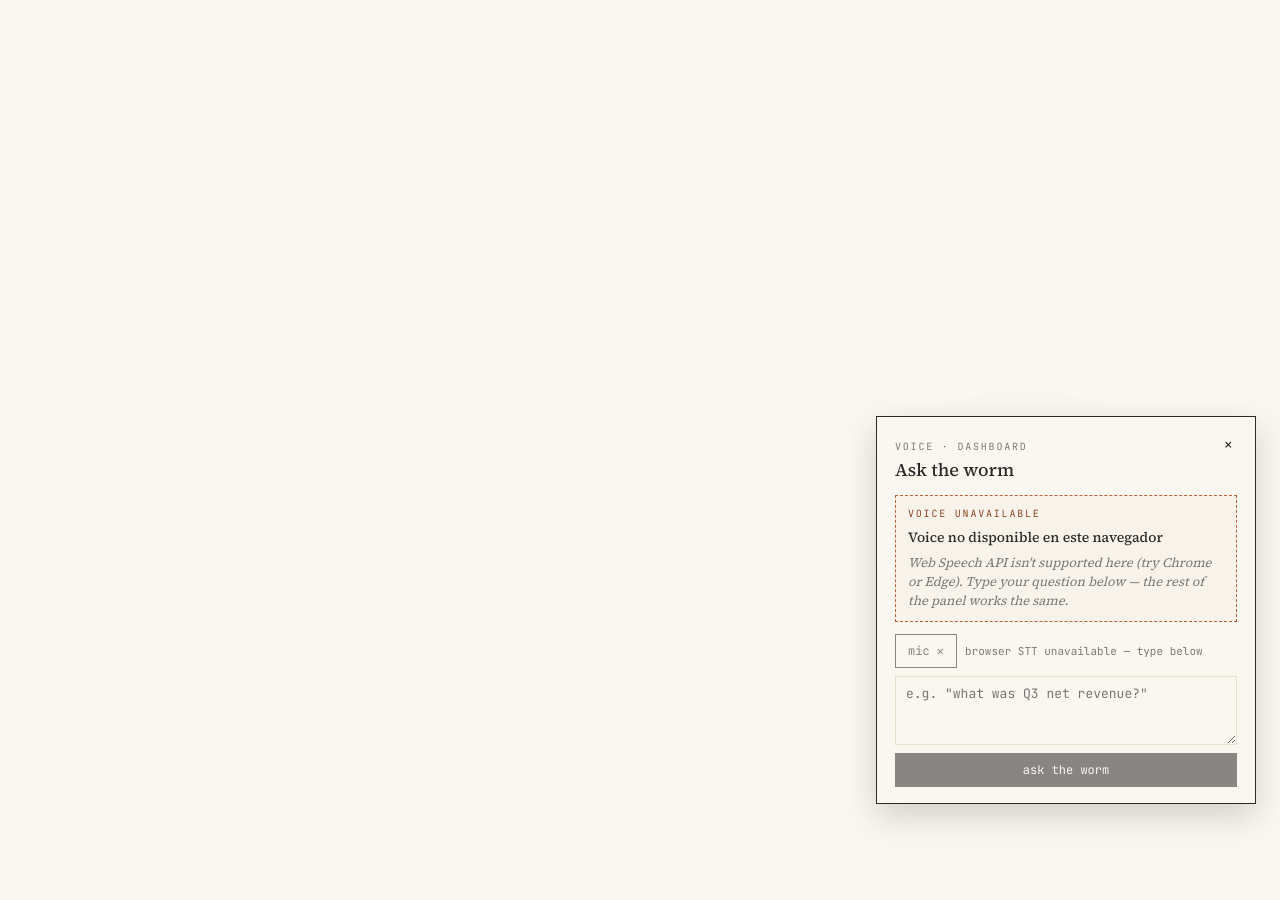
VoicePanel — speech-API graceful degradation › renders KPI citation chip when ask() returns a kpi_node citation (P13)
The width and height of the screenshot is (1280, 900).
Step 1. Type "what's the current value of Q3 net revenue?" into the text box with test id "voice-transcript" → (1066, 710), box [895,676,1237,745]
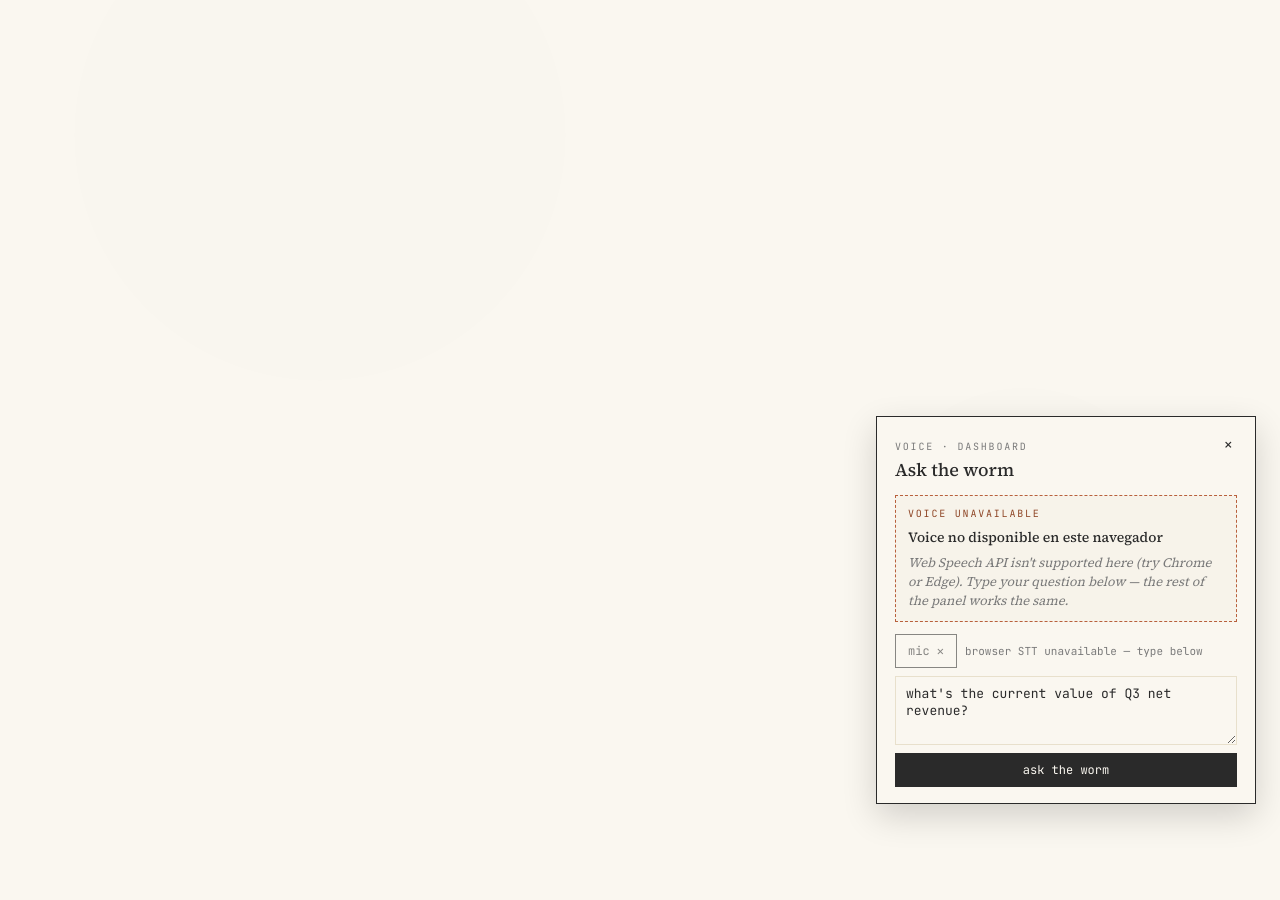
Step 2. Click the button with test id "voice-submit" → (1066, 770), box [895,753,1237,787]
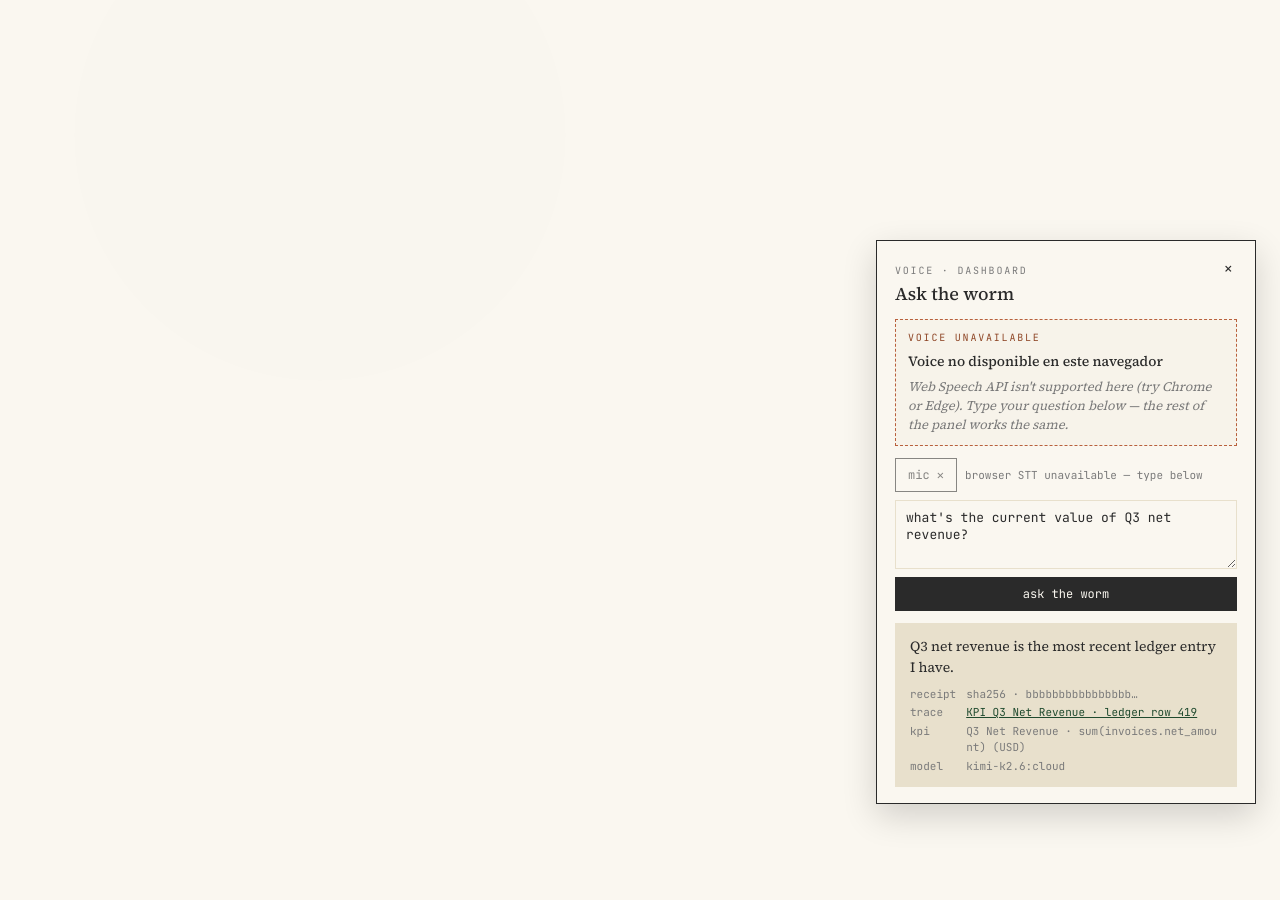
Now the element with test id "voice-answer" is shown, box [895,622,1237,787]
Now the link with test id "voice-trace-link" shows "Q3 Net Revenue", box [966,705,1197,719]
Now the link with test id "voice-trace-link" shows "ledger row 419", box [966,705,1197,719]
